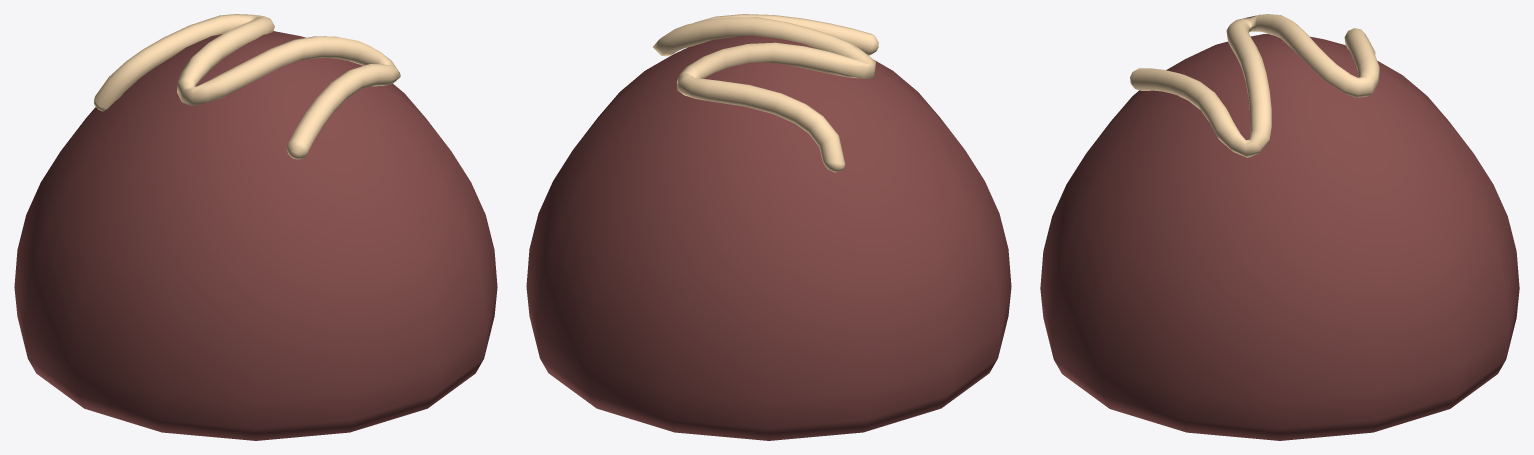
Rendered from SM_Praline.fbx.
The picture shows the model from 3 angles, left to right: view 1: azimuth 30°, elevation 25°; view 2: azimuth 150°, elevation 25°; view 3: azimuth 270°, elevation 25°; orthographic projection.
Parts seen in each view (by area): view 1: SM_Praline; view 2: SM_Praline; view 3: SM_Praline.
Boxes of the visible parts, x1,y1,x2,y2 form: SM_Praline: (14, 14, 497, 440); SM_Praline: (526, 14, 1011, 440); SM_Praline: (1040, 14, 1519, 440).
Size of the model in its own units: 253 by 185 by 254.
1 material, 1 textured.
